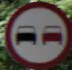No overtake: (9, 7, 63, 62)
